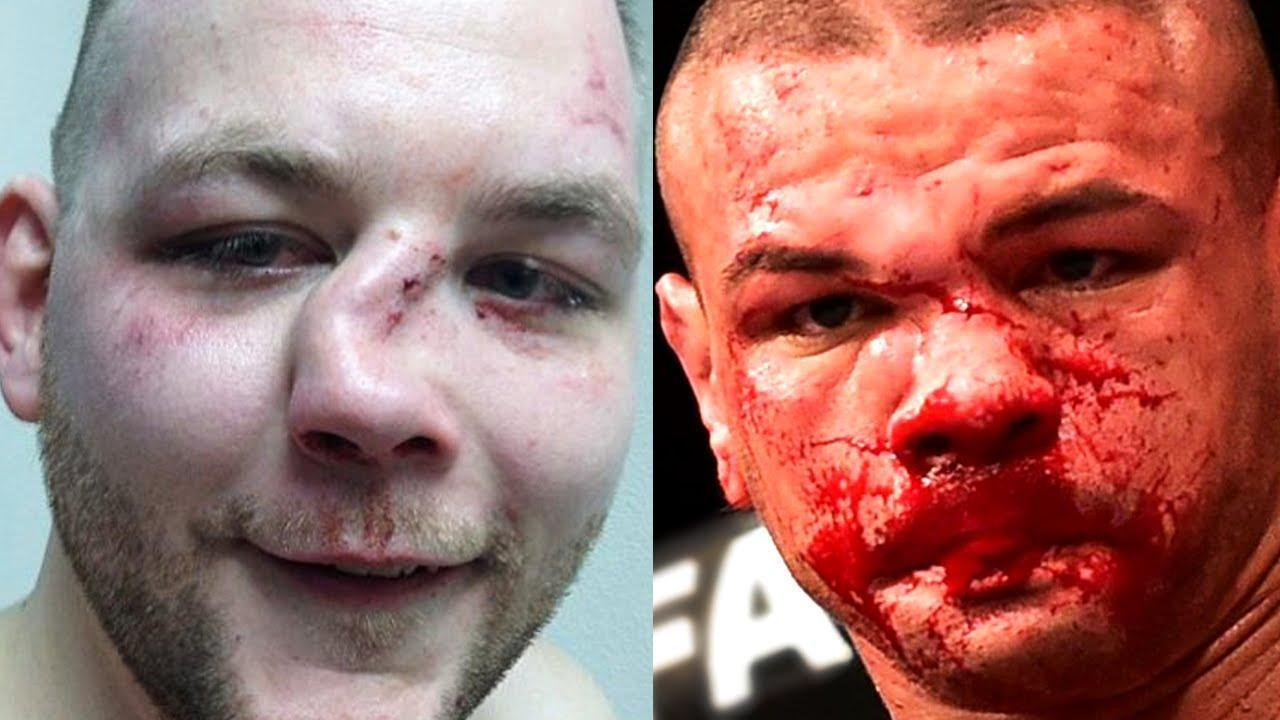Fire: (676, 139, 1241, 714), (287, 469, 421, 578), (370, 228, 450, 340), (474, 287, 570, 358)
